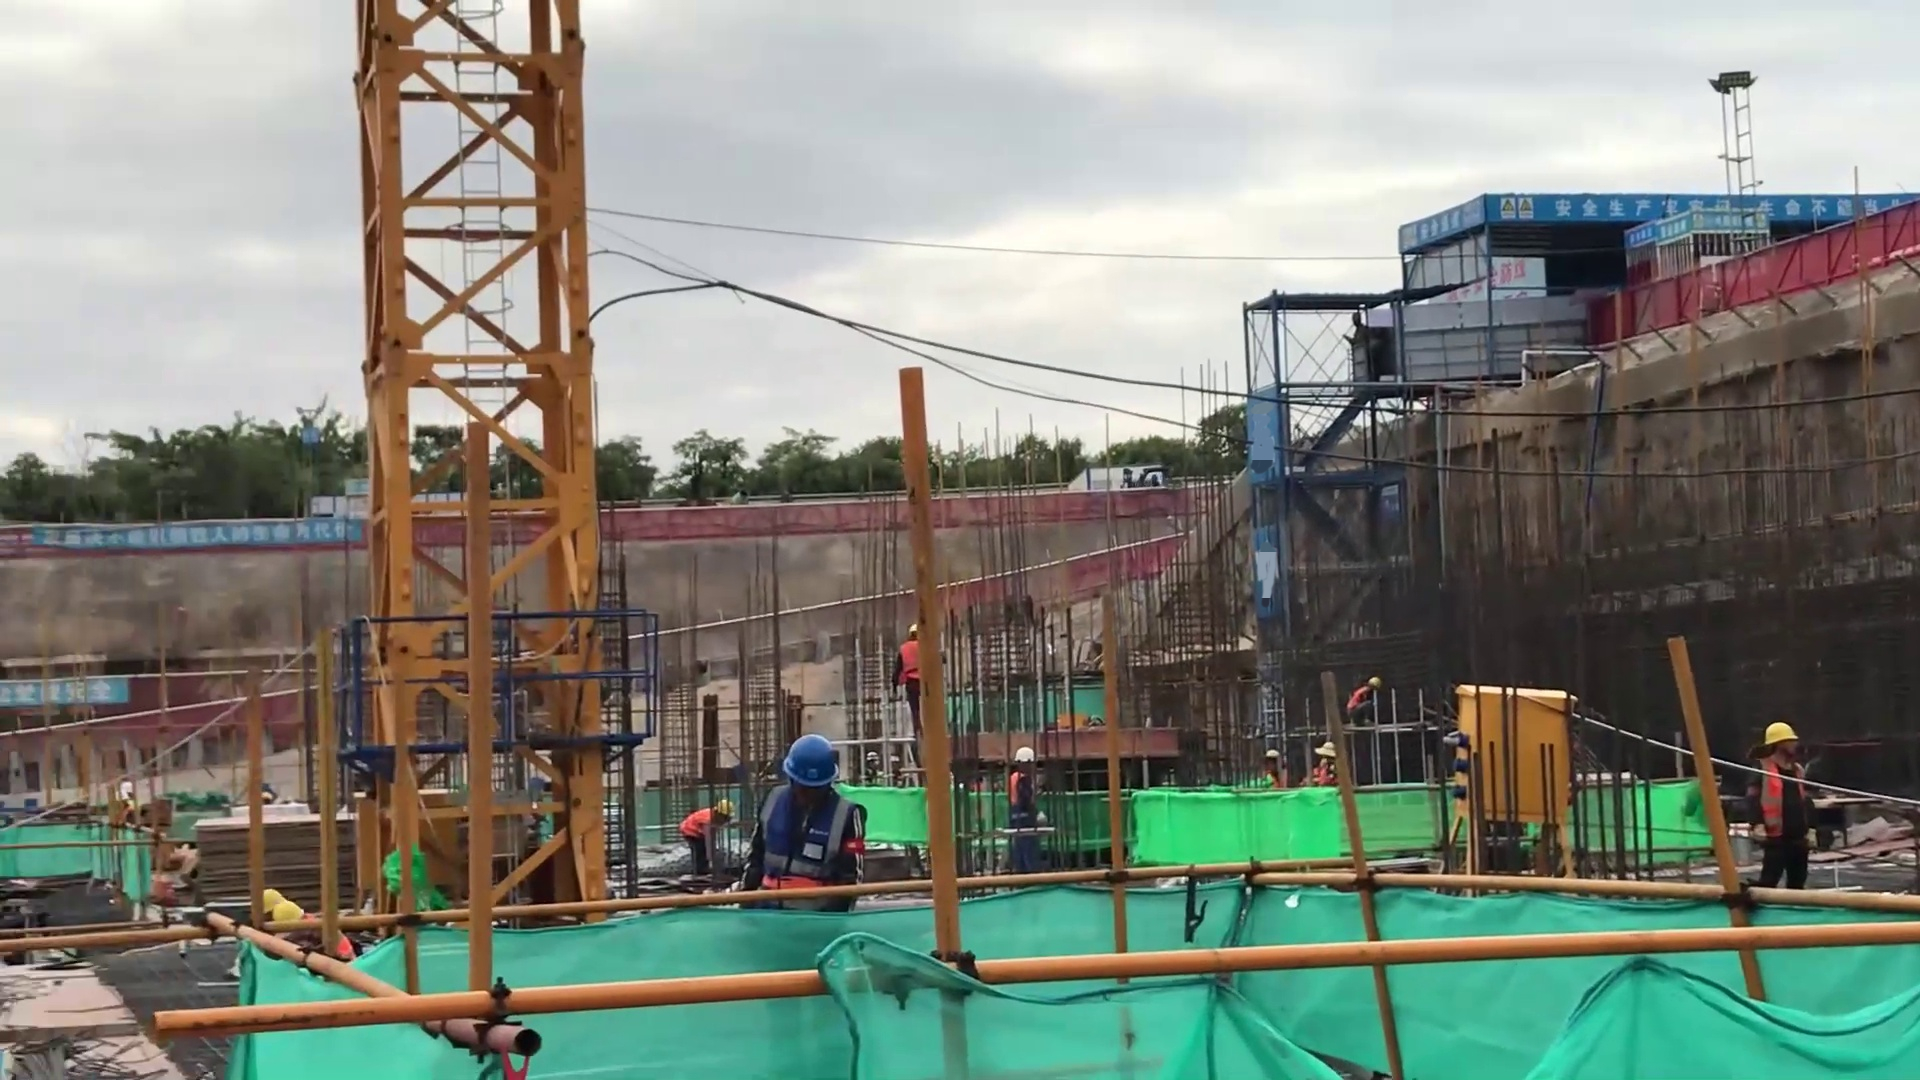ebox: (1452, 643, 1610, 917)
fence: (598, 469, 1203, 545), (1648, 200, 1920, 352)
helmet: (773, 733, 856, 795), (1752, 712, 1802, 753), (712, 784, 740, 816), (1366, 668, 1392, 699), (896, 615, 924, 639), (1312, 735, 1340, 758), (1013, 739, 1035, 764)
person: (742, 733, 877, 911), (1747, 712, 1821, 899), (673, 797, 736, 889), (1010, 745, 1045, 874), (893, 623, 921, 736), (1347, 669, 1389, 727), (1307, 736, 1340, 788)
slogan: (1478, 165, 1907, 233), (22, 500, 369, 569), (1, 660, 145, 736), (1372, 191, 1485, 248)
vest: (758, 788, 868, 875), (1755, 754, 1812, 847), (1008, 768, 1044, 824), (680, 802, 716, 849), (895, 639, 921, 685)
